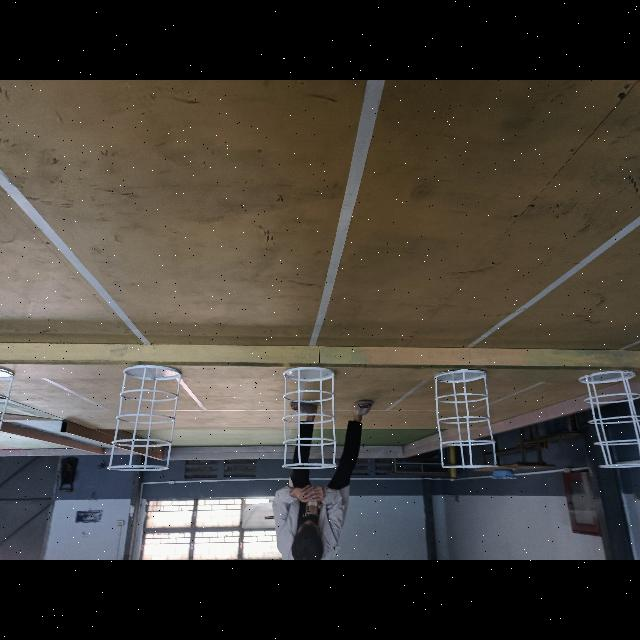S: (105, 361, 183, 474), (434, 366, 500, 470), (577, 368, 640, 469), (281, 364, 339, 472)
